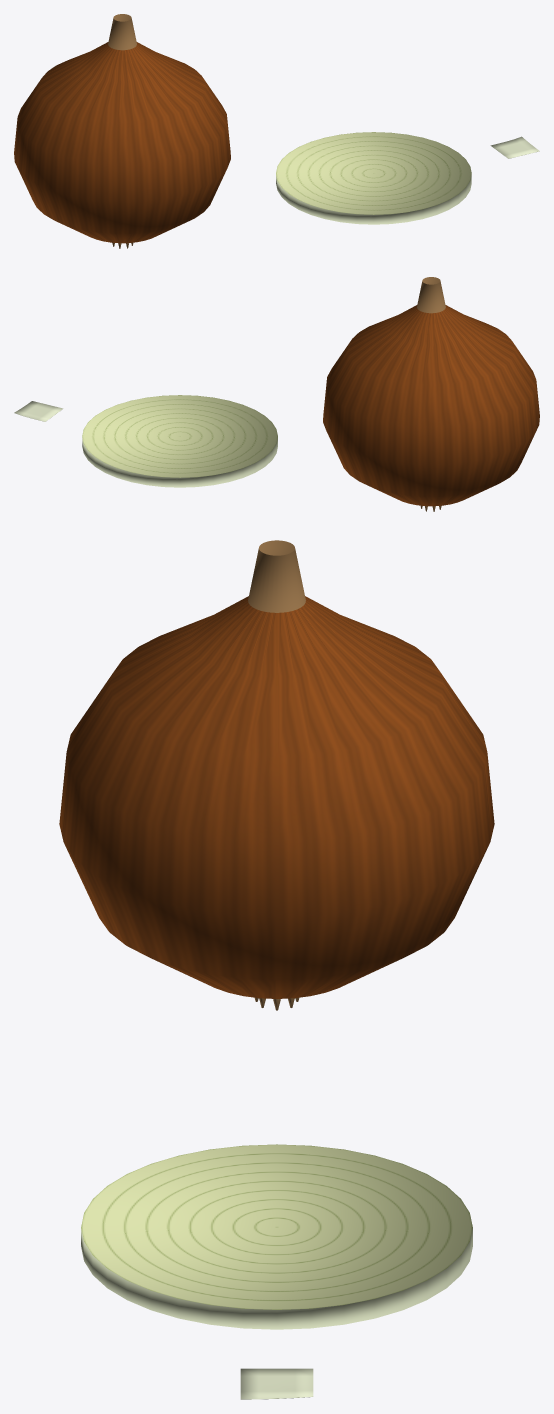
Rendered from VLAB_onion.fbx.
The picture shows the model from 3 angles, top to bottom: view 1: azimuth 30°, elevation 25°; view 2: azimuth 150°, elevation 25°; view 3: azimuth 270°, elevation 25°; orthographic projection. The views are drawn at different scales.
Parts seen in each view (by area): view 1: VLAB_onion_Bulb_VIS, VLAB_onion_Slice_VIS, VLAB_onion_EpidermisStrip_VIS; view 2: VLAB_onion_Bulb_VIS, VLAB_onion_Slice_VIS, VLAB_onion_EpidermisStrip_VIS; view 3: VLAB_onion_Bulb_VIS, VLAB_onion_Slice_VIS, VLAB_onion_EpidermisStrip_VIS.
Part boxes in pixels (x1=…): VLAB_onion_Bulb_VIS: x1=14, y1=14, x2=230, y2=248; VLAB_onion_Slice_VIS: x1=276, y1=132, x2=471, y2=224; VLAB_onion_EpidermisStrip_VIS: x1=490, y1=136, x2=539, y2=158; VLAB_onion_Bulb_VIS: x1=323, y1=277, x2=539, y2=511; VLAB_onion_Slice_VIS: x1=82, y1=395, x2=277, y2=487; VLAB_onion_EpidermisStrip_VIS: x1=14, y1=401, x2=63, y2=421; VLAB_onion_Bulb_VIS: x1=59, y1=540, x2=494, y2=1010; VLAB_onion_Slice_VIS: x1=81, y1=1144, x2=472, y2=1329; VLAB_onion_EpidermisStrip_VIS: x1=240, y1=1368, x2=313, y2=1399.
Size of the model in its own units: 0.16 by 0.069 by 0.06.
